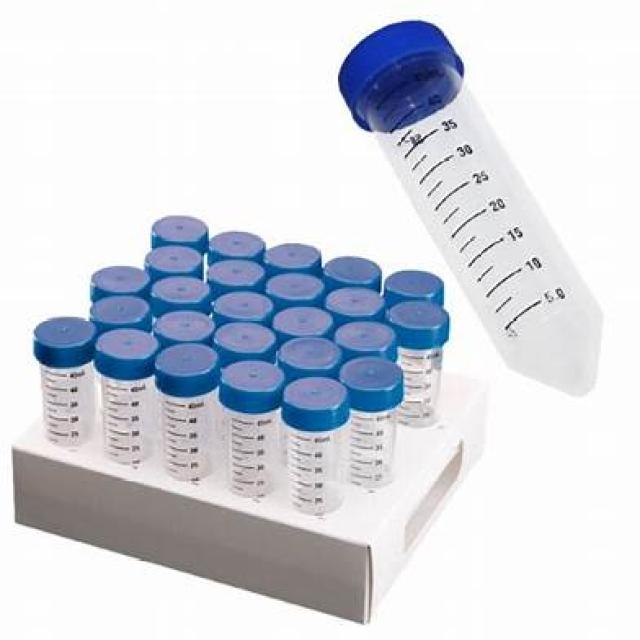vial: (276, 334, 340, 374), (164, 344, 220, 386), (36, 318, 102, 352), (345, 358, 401, 396), (292, 374, 342, 416), (215, 321, 273, 356), (276, 304, 334, 338), (100, 328, 150, 367), (341, 320, 396, 354), (391, 304, 445, 338), (225, 364, 279, 398), (142, 243, 202, 273), (266, 270, 318, 304), (265, 238, 321, 269), (391, 270, 439, 306), (212, 290, 267, 321), (326, 284, 378, 316), (94, 296, 152, 324), (330, 255, 380, 285), (211, 258, 261, 288), (218, 228, 267, 258), (151, 312, 205, 338), (157, 276, 205, 305), (96, 266, 146, 292), (158, 214, 202, 243)
